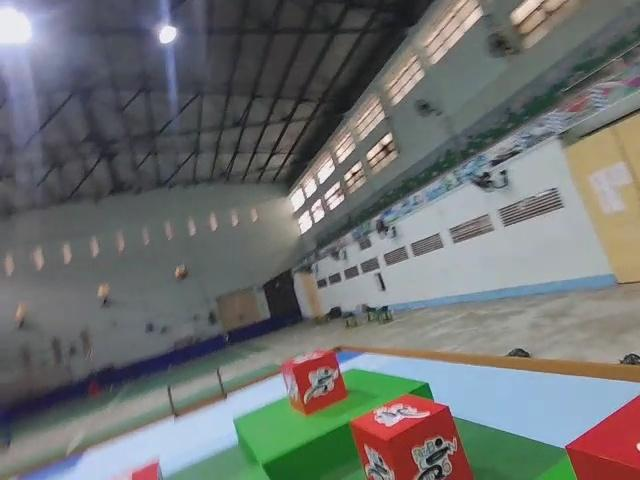R1: (348, 390, 477, 480), (278, 346, 350, 417)
